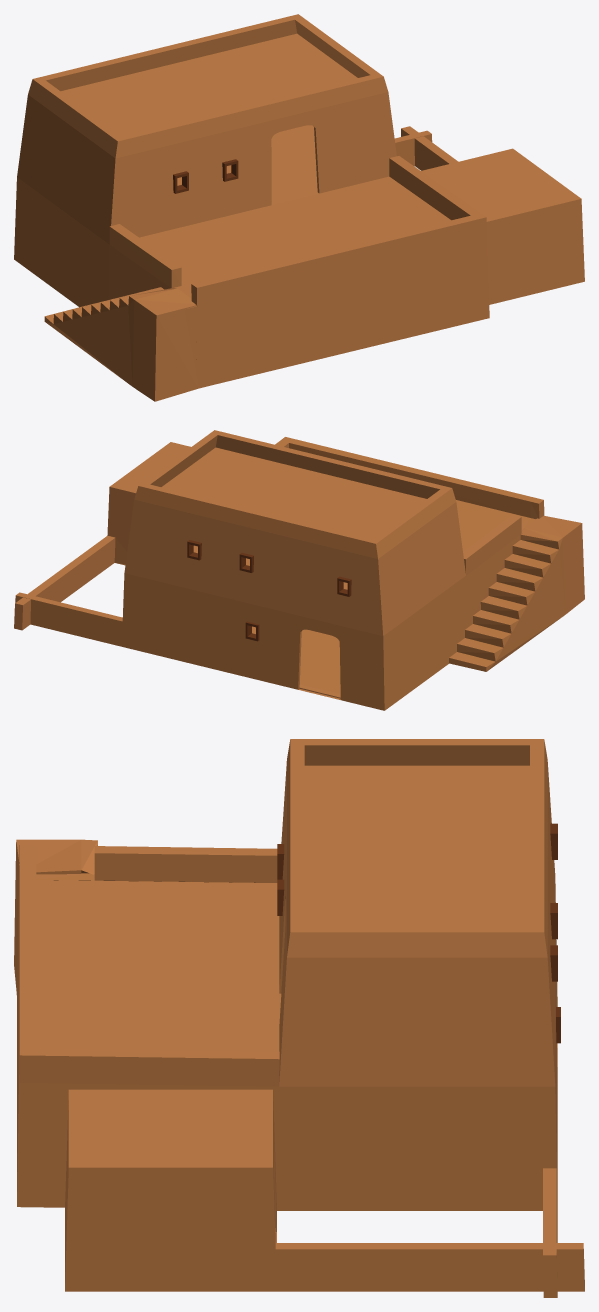
Rendered from Egyptian house 2.fbx.
3 renders of one model, top to bottom at view 1: azimuth 30°, elevation 25°; view 2: azimuth 150°, elevation 25°; view 3: azimuth 270°, elevation 25°, orthographic. The views are drawn at different scales.
Visible parts, largest first — view 1: Egyptian house Var2; view 2: Egyptian house Var2; view 3: Egyptian house Var2.
Part boxes in pixels (bbox=[...]): Egyptian house Var2: bbox=[14, 14, 584, 401]; Egyptian house Var2: bbox=[14, 430, 584, 710]; Egyptian house Var2: bbox=[14, 739, 584, 1297].
Size of the model in its own units: 1575 by 595 by 1147.
